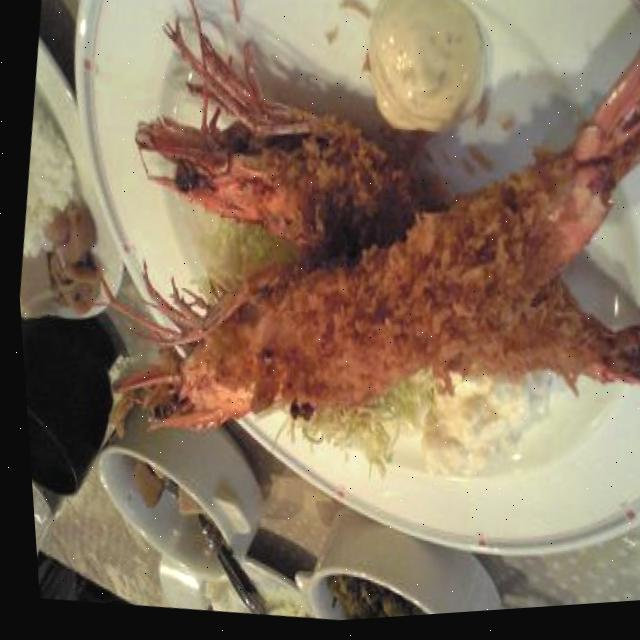炸货点心: (49, 39, 544, 638)
熟制海鲜: (49, 39, 544, 638)
